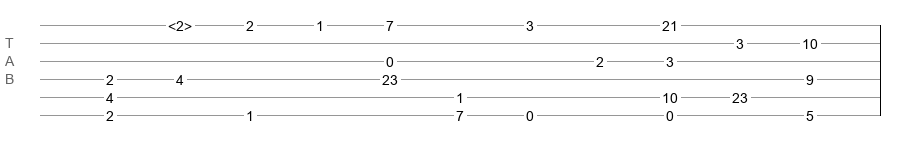0: (386, 54, 394, 64), (526, 108, 534, 118), (666, 108, 674, 118)
1: (246, 108, 254, 118), (316, 18, 324, 28), (456, 90, 464, 100)
10: (662, 90, 678, 100), (802, 36, 818, 46)
2: (106, 72, 114, 82), (106, 108, 114, 118), (246, 18, 254, 28), (596, 54, 604, 64)
21: (662, 18, 678, 28)
23: (382, 72, 398, 82), (732, 90, 748, 100)
3: (526, 18, 534, 28), (666, 54, 674, 64), (736, 36, 744, 46)
4: (106, 90, 114, 100), (176, 72, 184, 82)
5: (806, 108, 814, 118)
7: (386, 18, 394, 28), (456, 108, 464, 118)
9: (806, 72, 814, 82)
harmonic: (168, 18, 192, 28)
